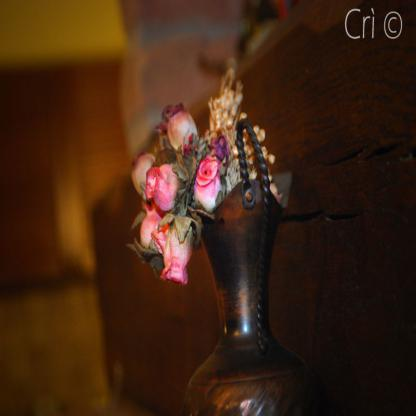vase: (184, 117, 326, 415)
